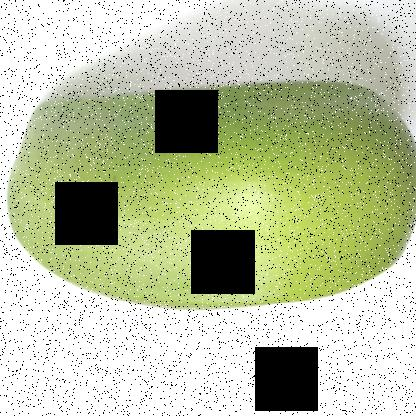freshunripe: (2, 74, 416, 323)
